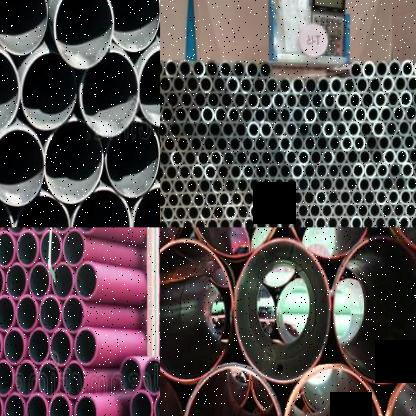pipe: (234, 238, 330, 384), (332, 237, 416, 384), (160, 240, 235, 381), (282, 364, 386, 416), (182, 363, 282, 416), (79, 53, 139, 138), (45, 119, 104, 204), (21, 53, 77, 130), (106, 121, 160, 198), (55, 0, 114, 69), (0, 129, 44, 206), (188, 227, 284, 259), (284, 227, 378, 259), (108, 0, 160, 52), (70, 186, 132, 228), (0, 0, 47, 55), (14, 194, 70, 227), (384, 363, 416, 416), (139, 47, 160, 126), (0, 48, 19, 135), (132, 186, 160, 228), (74, 328, 97, 364), (63, 296, 84, 333), (75, 263, 97, 298), (63, 362, 85, 397), (52, 263, 73, 299), (40, 296, 61, 332), (50, 329, 71, 365), (63, 231, 85, 265), (119, 358, 141, 392), (17, 231, 38, 266), (29, 264, 50, 299), (6, 264, 27, 299), (28, 328, 49, 363), (40, 231, 61, 265), (4, 329, 25, 363), (16, 362, 37, 396), (17, 296, 37, 331), (39, 362, 59, 397), (143, 359, 160, 392), (0, 231, 15, 266), (130, 391, 151, 416), (0, 295, 14, 330), (49, 394, 70, 416), (74, 395, 96, 416), (4, 393, 24, 416), (26, 394, 46, 416), (0, 362, 12, 396), (185, 74, 200, 94), (238, 75, 253, 95), (187, 104, 202, 124), (205, 59, 220, 79), (212, 75, 227, 94), (166, 90, 181, 109), (179, 90, 194, 109), (206, 90, 221, 109), (193, 90, 208, 109), (214, 105, 229, 124), (221, 120, 236, 139), (381, 74, 395, 94), (172, 74, 186, 94), (355, 75, 369, 95), (342, 75, 356, 95), (265, 75, 279, 95), (252, 75, 266, 95), (304, 75, 318, 95), (220, 90, 234, 110), (233, 90, 247, 110), (174, 104, 188, 124), (192, 59, 206, 79), (219, 59, 233, 79), (246, 60, 260, 80), (189, 135, 204, 153), (183, 149, 198, 167), (199, 75, 213, 94), (368, 75, 382, 94), (226, 75, 240, 94), (291, 76, 305, 95), (278, 76, 292, 95), (323, 91, 337, 110), (310, 91, 324, 110), (272, 91, 286, 110), (259, 91, 273, 110), (246, 91, 260, 110), (201, 105, 215, 124), (160, 105, 174, 124), (341, 105, 355, 124), (227, 105, 241, 124), (395, 147, 409, 166), (165, 163, 179, 182), (178, 59, 192, 78), (165, 59, 179, 78), (401, 59, 415, 78), (232, 60, 246, 79), (388, 59, 401, 79), (259, 60, 272, 80), (350, 60, 363, 80), (160, 73, 172, 94), (399, 90, 413, 108), (386, 90, 400, 108), (361, 91, 375, 109), (348, 91, 362, 109), (379, 105, 393, 123), (366, 105, 380, 123), (359, 120, 373, 138), (347, 120, 361, 138), (322, 120, 336, 138), (208, 120, 222, 138), (195, 120, 209, 138), (202, 135, 216, 153), (176, 135, 190, 153), (163, 135, 177, 153), (383, 148, 397, 166), (222, 149, 236, 167), (209, 149, 223, 167), (327, 162, 341, 180), (339, 162, 353, 180), (248, 176, 262, 194), (198, 177, 212, 195), (185, 177, 199, 195), (230, 190, 244, 208), (392, 201, 406, 219), (375, 60, 389, 78), (362, 61, 376, 79), (394, 74, 407, 93), (374, 90, 387, 109), (336, 91, 349, 110), (285, 91, 298, 110), (392, 104, 405, 123), (354, 105, 367, 124), (329, 105, 342, 124), (385, 119, 398, 138), (169, 120, 182, 139), (372, 120, 386, 137), (297, 121, 311, 138), (272, 121, 286, 138), (247, 121, 261, 138), (234, 121, 248, 138), (259, 121, 273, 138), (340, 135, 354, 152), (309, 149, 323, 166), (297, 149, 311, 166), (388, 162, 402, 179), (178, 164, 192, 181), (191, 164, 205, 181), (345, 176, 359, 193), (205, 191, 219, 208), (192, 191, 206, 208), (368, 202, 382, 219), (380, 202, 394, 219), (317, 76, 330, 94), (304, 106, 317, 124), (279, 106, 292, 124), (266, 106, 279, 124), (241, 106, 254, 124), (398, 119, 411, 137), (335, 120, 348, 138), (182, 120, 195, 138), (266, 135, 279, 153), (216, 135, 229, 153), (371, 148, 384, 166), (334, 148, 347, 166), (322, 148, 335, 166), (171, 149, 184, 167), (217, 163, 230, 181), (173, 177, 186, 195), (218, 190, 231, 208), (167, 191, 180, 209), (330, 76, 342, 95), (298, 91, 310, 110), (317, 105, 329, 124), (199, 205, 213, 221), (174, 205, 188, 221), (285, 121, 298, 138), (378, 134, 391, 151), (365, 134, 378, 151), (353, 134, 366, 151), (328, 135, 341, 152), (316, 135, 329, 152), (279, 135, 292, 152), (285, 149, 298, 166), (260, 149, 273, 166), (197, 150, 210, 167), (267, 163, 280, 180), (204, 164, 217, 181), (224, 177, 237, 194), (211, 177, 224, 194), (254, 106, 266, 124), (310, 120, 322, 138), (404, 133, 416, 151), (391, 133, 403, 151), (254, 135, 266, 153), (242, 135, 254, 153), (229, 135, 241, 153), (347, 148, 359, 166), (359, 148, 371, 166), (402, 161, 414, 179), (352, 162, 364, 180), (316, 162, 328, 180), (304, 162, 316, 180), (243, 163, 255, 181), (230, 163, 242, 181), (382, 175, 394, 193), (370, 175, 382, 193), (334, 175, 346, 193), (322, 175, 334, 193), (160, 177, 172, 195), (180, 191, 192, 209), (279, 190, 292, 206), (273, 203, 286, 219), (304, 135, 316, 152), (274, 149, 286, 166), (377, 162, 389, 179), (364, 162, 376, 179), (255, 163, 267, 180), (394, 175, 406, 192), (310, 176, 322, 193), (298, 176, 310, 193), (286, 176, 298, 193), (400, 189, 412, 206), (388, 189, 400, 206), (376, 189, 388, 206), (364, 189, 376, 206), (352, 189, 364, 206), (339, 189, 351, 206), (328, 189, 340, 206), (315, 189, 327, 206), (268, 190, 280, 207), (255, 190, 267, 207), (244, 190, 256, 207), (322, 202, 334, 219), (357, 202, 369, 219), (344, 202, 356, 219), (333, 202, 345, 219), (309, 202, 321, 219), (298, 202, 310, 219), (286, 202, 298, 219), (262, 203, 274, 220), (237, 203, 249, 220), (250, 203, 262, 220), (212, 204, 224, 221), (162, 205, 174, 222), (406, 73, 416, 93), (292, 106, 303, 124), (249, 149, 260, 167), (236, 149, 247, 167), (292, 162, 303, 180), (359, 175, 370, 193), (304, 189, 315, 207), (274, 177, 286, 193), (261, 177, 273, 193), (236, 177, 248, 193), (225, 204, 237, 220), (187, 205, 199, 221), (405, 104, 416, 121), (292, 135, 303, 152), (280, 163, 291, 180), (160, 149, 170, 167), (406, 174, 416, 192), (292, 190, 303, 206), (405, 201, 416, 217), (337, 216, 351, 228), (160, 120, 168, 138), (386, 216, 398, 228), (362, 216, 374, 228), (350, 216, 362, 228), (326, 216, 338, 228), (303, 216, 315, 228), (290, 216, 302, 228), (268, 216, 280, 228), (255, 216, 267, 228), (243, 216, 255, 228), (232, 216, 244, 228), (154, 392, 160, 416), (168, 218, 182, 228), (408, 147, 416, 164), (398, 216, 409, 228), (375, 216, 386, 228), (315, 216, 326, 228), (280, 216, 291, 228), (206, 218, 219, 228), (194, 218, 207, 228), (182, 218, 194, 228), (160, 90, 166, 109), (410, 118, 416, 137), (160, 192, 167, 208), (219, 218, 230, 228), (0, 264, 3, 299), (160, 58, 165, 78), (160, 163, 165, 182), (409, 214, 416, 227), (160, 218, 169, 228), (411, 189, 416, 204), (412, 89, 416, 107), (413, 58, 416, 78), (160, 136, 163, 153), (413, 161, 416, 178)
